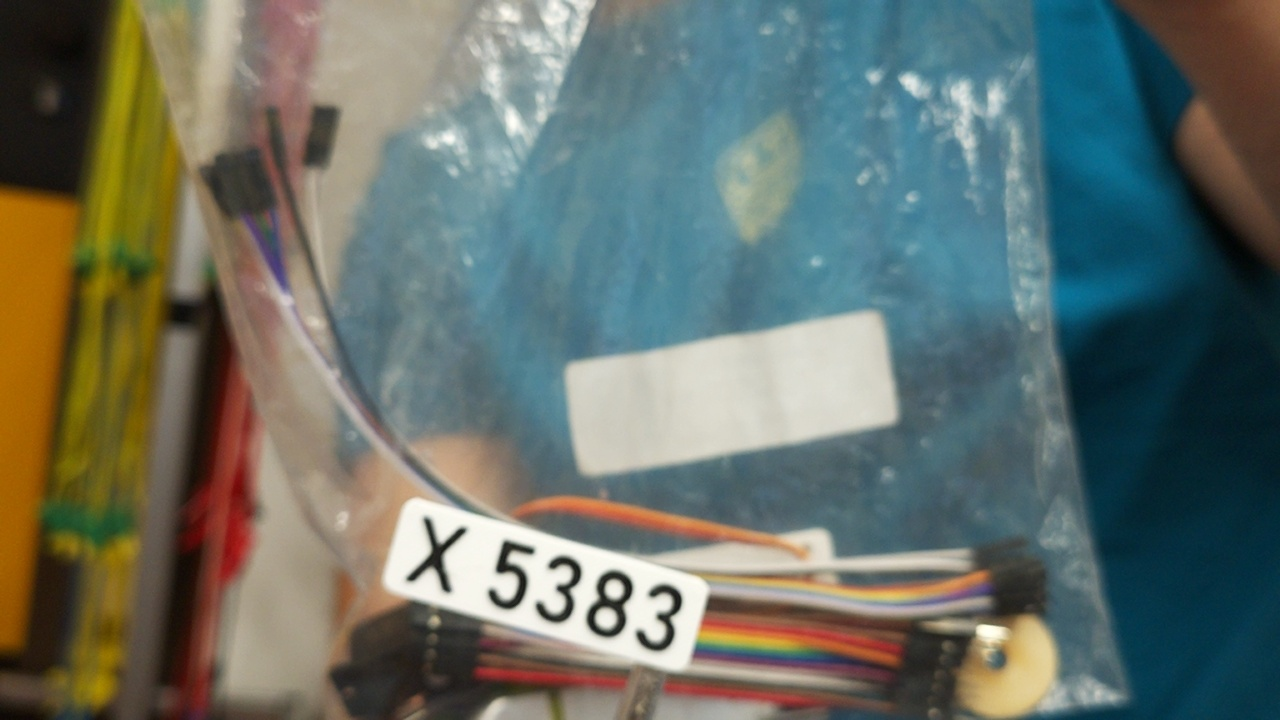license_plate: (379, 493, 714, 675)
